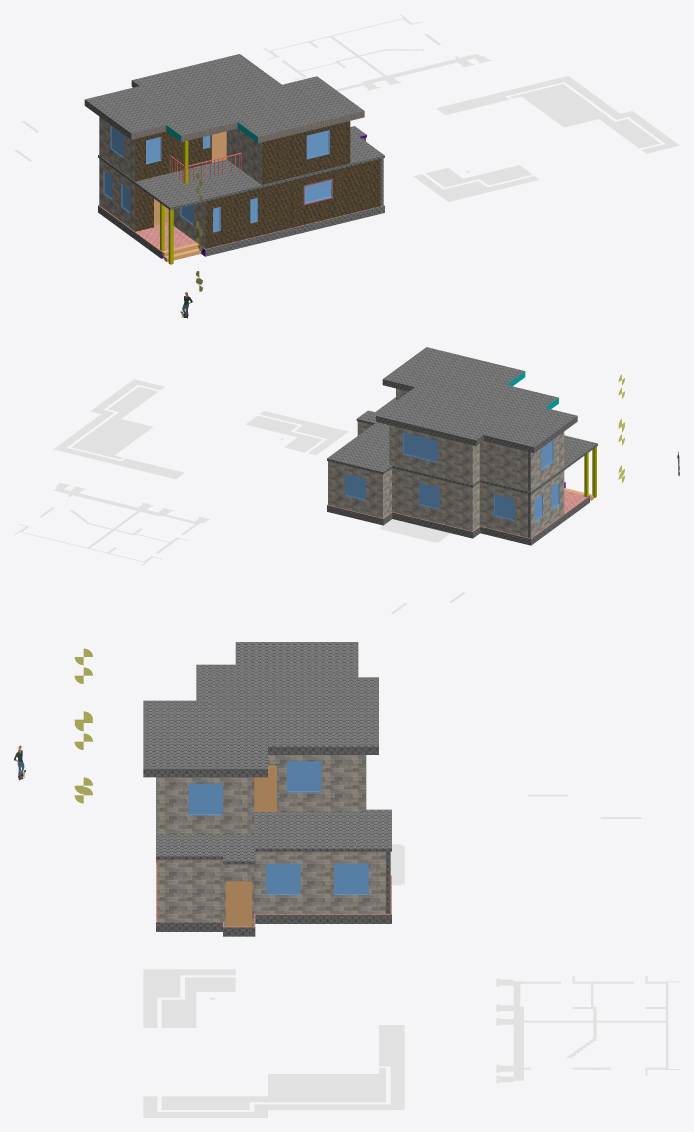
3 views of the same model, one above another, from view 1: azimuth 30°, elevation 25°; view 2: azimuth 150°, elevation 25°; view 3: azimuth 270°, elevation 25° (orthographic). The views are drawn at different scales.
Parts seen in each view (by area): view 1: _C-test ar - 3D View - {3D}.dwg (Loose Mesh), C-new plan _5__dwg-352514-_3D_, C-M_Fixed - w1-397331-_3D_.003, C-M_Window-Double-Hung - kw1-364636-_3D_; view 2: _C-test ar - 3D View - {3D}.dwg (Loose Mesh), C-new plan _5__dwg-352514-_3D_, C-M_Fixed - W5-397764-_3D_, C-M_Fixed - w1-362171-_3D_.005, C-M_Fixed - w1-362171-_3D_.002, C-M_Fixed - w1-362171-_3D_.001; view 3: _C-test ar - 3D View - {3D}.dwg (Loose Mesh), C-new plan _5__dwg-352514-_3D_, C-M_Single-Flush - D-361868-_3D_, C-M_Fixed - w1-397331-_3D_.002, C-M_Fixed - w1-397331-_3D_.001, C-M_Fixed - w1-362171-_3D_.003, C-M_Fixed - w1-362171-_3D_.004, C-M_Single-Flush - D1-395665-_3D_.001.
Boxes of the visible parts, bbox=[...] form: _C-test ar - 3D View - {3D}.dwg (Loose Mesh): bbox=[84, 54, 384, 261]; C-new plan _5__dwg-352514-_3D_: bbox=[14, 14, 679, 201]; C-M_Fixed - w1-397331-_3D_.003: bbox=[306, 130, 329, 159]; C-M_Window-Double-Hung - kw1-364636-_3D_: bbox=[304, 180, 331, 203]; _C-test ar - 3D View - {3D}.dwg (Loose Mesh): bbox=[327, 347, 597, 545]; C-new plan _5__dwg-352514-_3D_: bbox=[14, 379, 465, 613]; C-M_Fixed - W5-397764-_3D_: bbox=[402, 432, 437, 462]; C-M_Fixed - w1-362171-_3D_.005: bbox=[493, 494, 514, 520]; C-M_Fixed - w1-362171-_3D_.002: bbox=[345, 473, 365, 500]; C-M_Fixed - w1-362171-_3D_.001: bbox=[419, 483, 439, 509]; _C-test ar - 3D View - {3D}.dwg (Loose Mesh): bbox=[143, 642, 391, 936]; C-new plan _5__dwg-352514-_3D_: bbox=[143, 794, 679, 1117]; C-M_Single-Flush - D-361868-_3D_: bbox=[225, 881, 252, 926]; C-M_Fixed - w1-397331-_3D_.002: bbox=[188, 783, 222, 815]; C-M_Fixed - w1-397331-_3D_.001: bbox=[286, 761, 321, 792]; C-M_Fixed - w1-362171-_3D_.003: bbox=[334, 863, 368, 894]; C-M_Fixed - w1-362171-_3D_.004: bbox=[266, 863, 300, 894]; C-M_Single-Flush - D1-395665-_3D_.001: bbox=[254, 766, 276, 812].
Size of the model in its own units: 35.71 by 7.42 by 28.81.
Materials: 34 (5 with a texture image).
